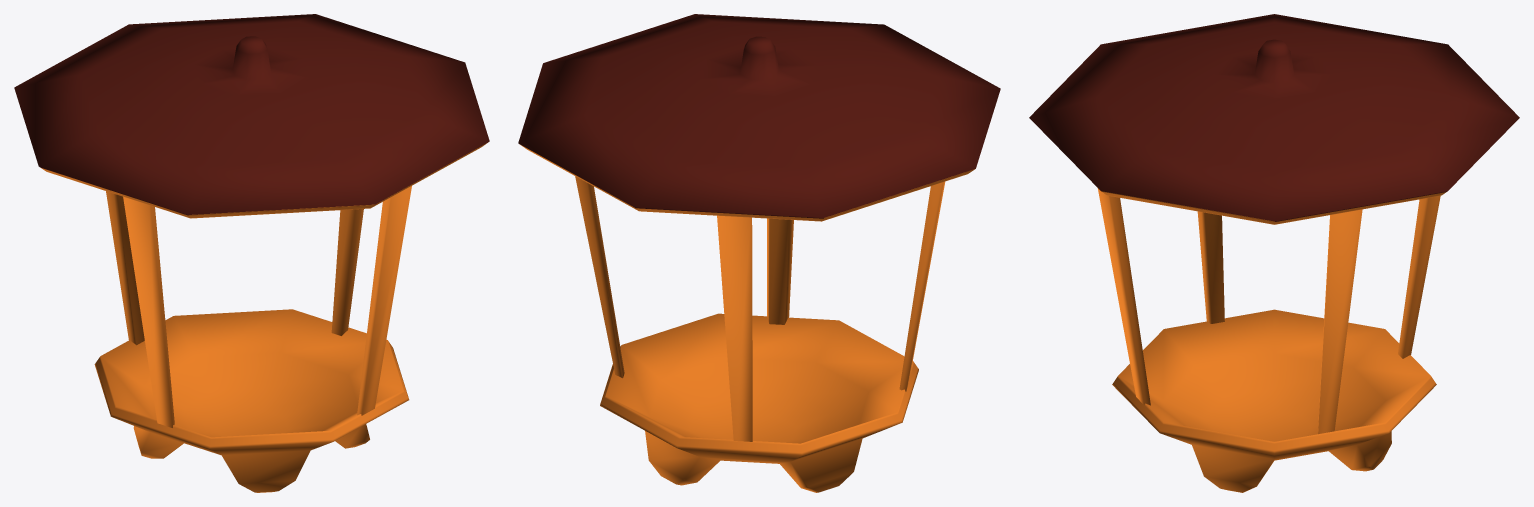
File: lantern.blend.glb
3 views of the same model, side by side, from view 1: azimuth 30°, elevation 25°; view 2: azimuth 150°, elevation 25°; view 3: azimuth 270°, elevation 25° (orthographic).
Parts seen in each view (by area): view 1: Circle.001, Circle; view 2: Circle.001, Circle; view 3: Circle.001, Circle.
Part boxes in pixels (box(x1,y1,x2,y2)): Circle.001: box(14, 14, 489, 427); Circle: box(94, 309, 409, 492); Circle.001: box(518, 14, 1000, 441); Circle: box(600, 313, 918, 492); Circle.001: box(1029, 14, 1519, 434); Circle: box(1112, 309, 1436, 492).
Size of the model in its own units: 0.1991 by 0.1824 by 0.1991.
